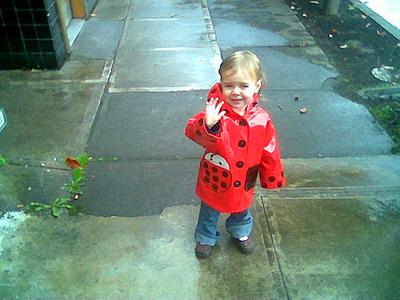person: (186, 51, 286, 258)
